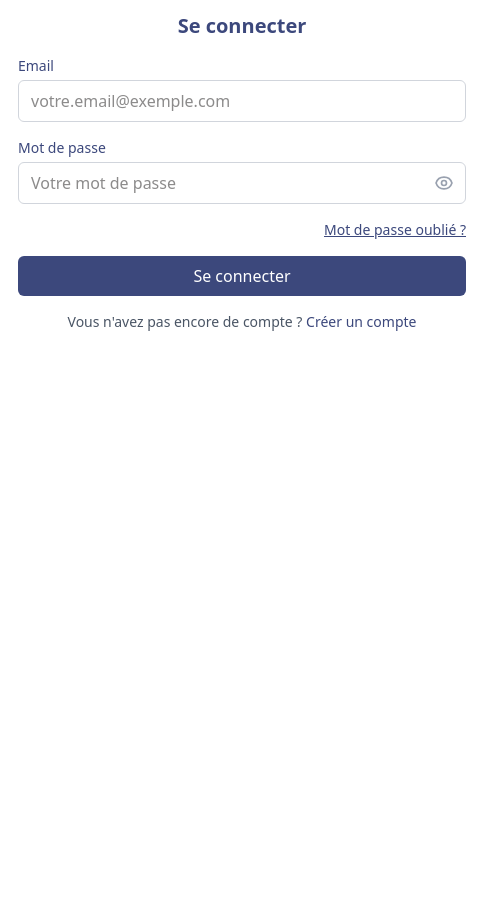
Test case: Login › shows an error toast when credentials are invalid
Type "test@example.com" into the field labelled "Email" at (242, 101), box [18, 80, 466, 122]
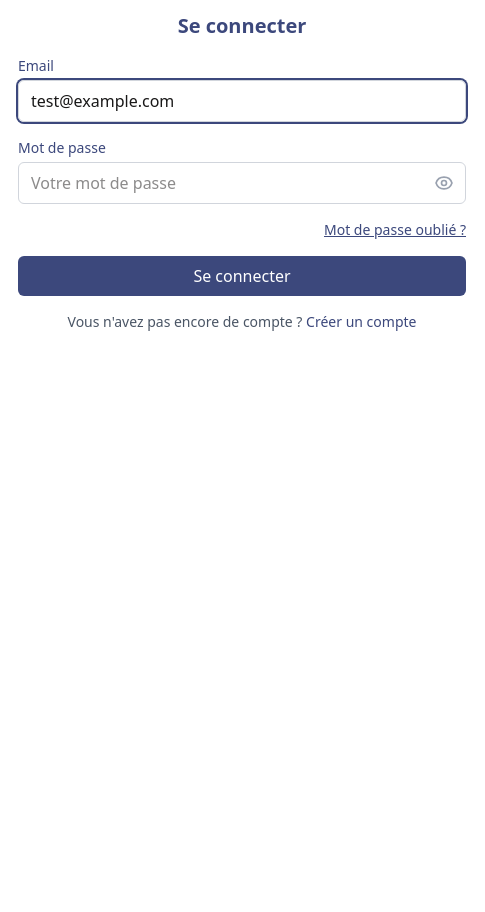
Type "badpass" into the password field labelled "Mot de passe" at (242, 183), box [18, 162, 466, 204]
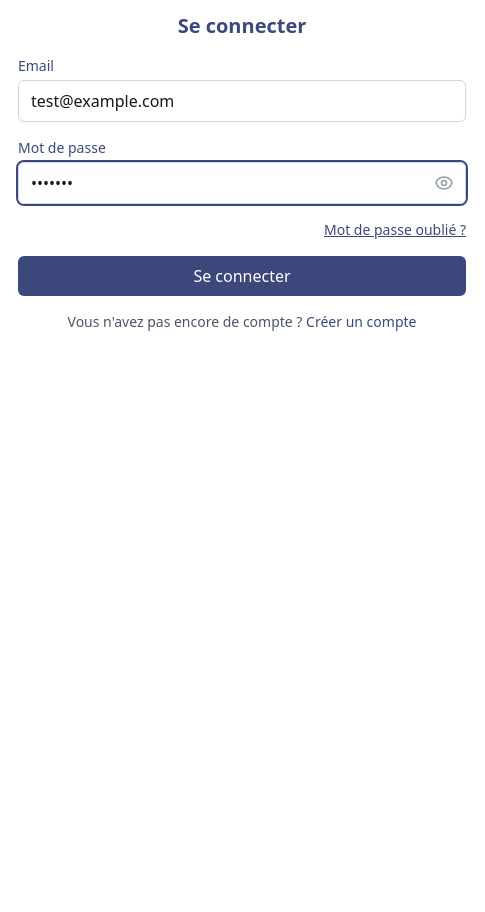
Click the button "Se connecter" at (242, 276), box [18, 256, 466, 296]
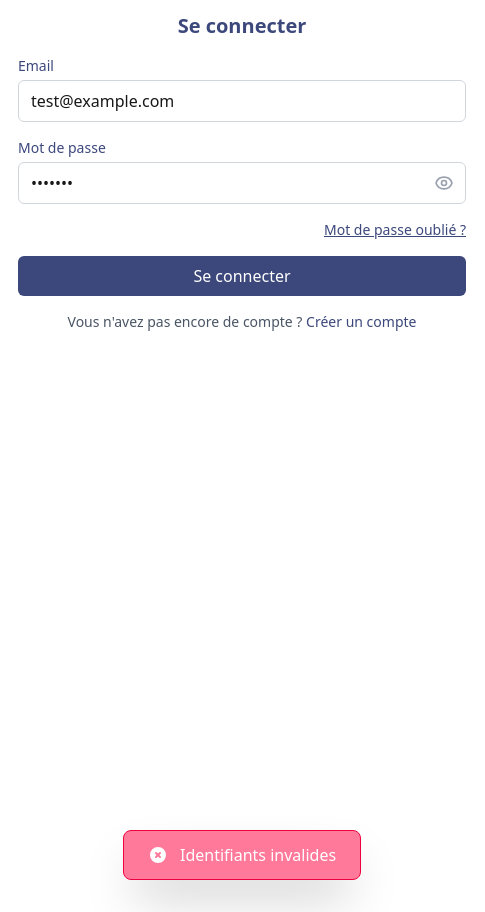
Expected: the message reads "Identifiants invalides", [180, 844, 336, 866]
